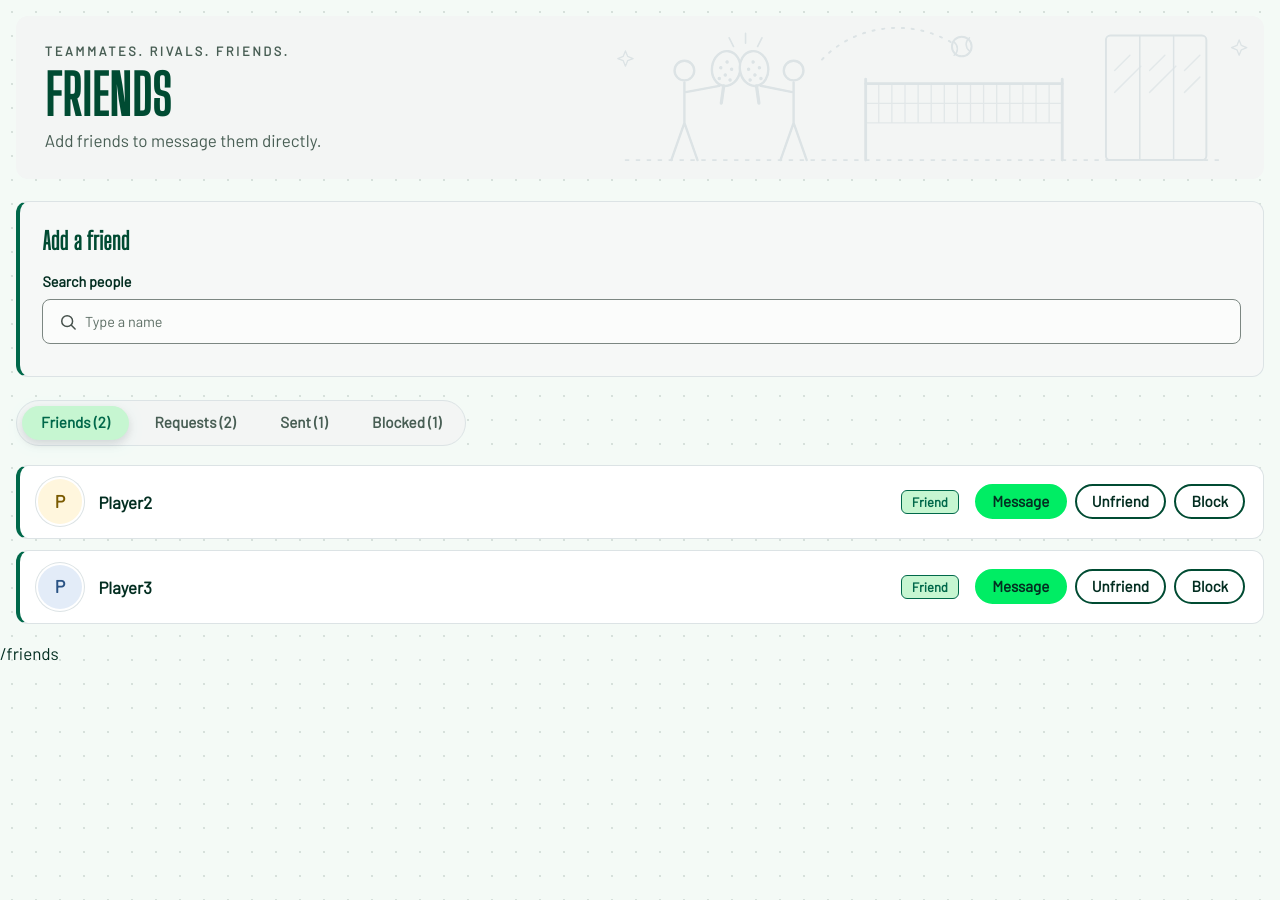
Friends page actions › asks before unfriending and unfriends only after confirmation
expect the link "Player2" is shown: met, box x1=98 y1=492 x2=152 y2=512
Click the button "Unfriend" in the row of "Player2": x=1120, y=502 x1=1074 y1=484 x2=1166 y2=519
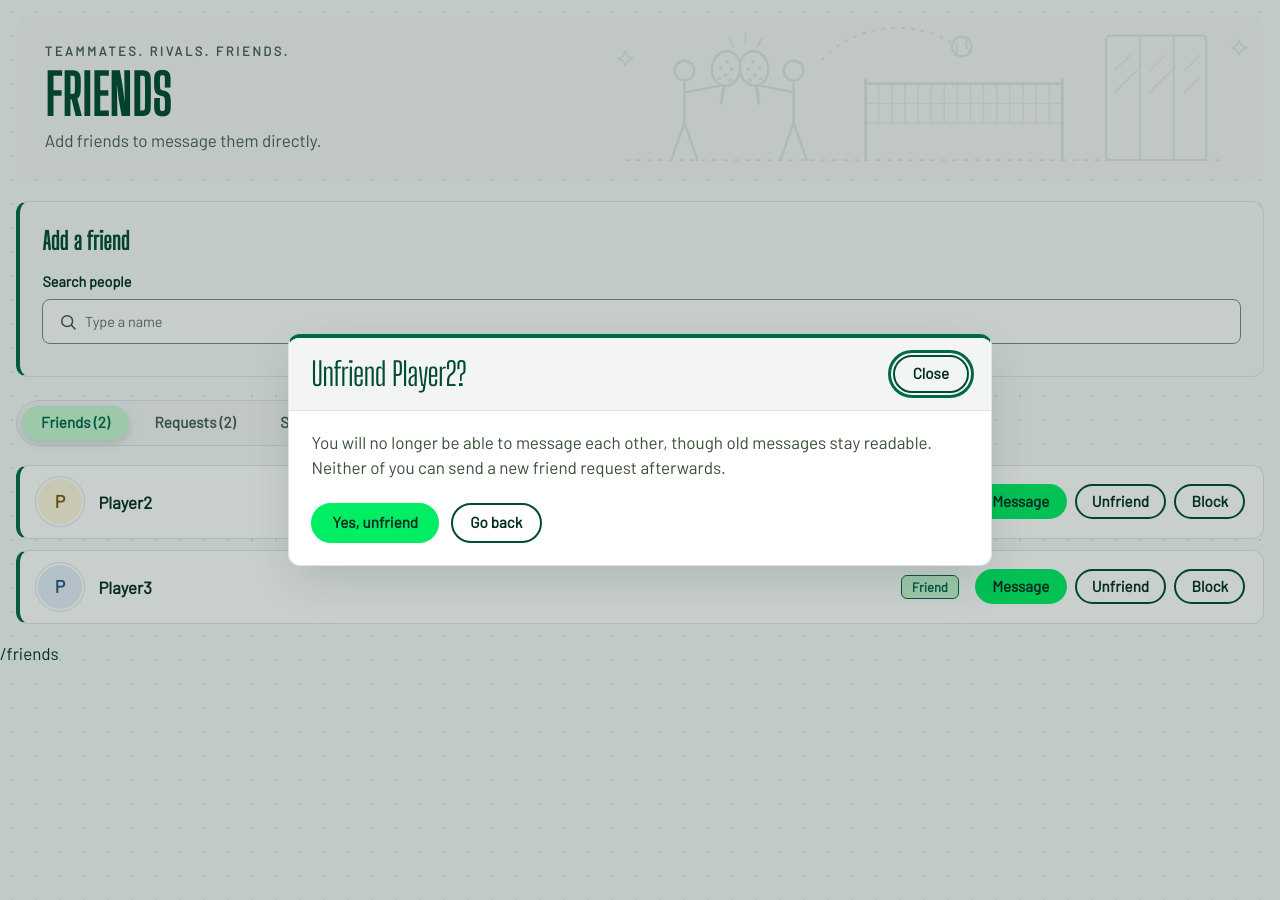
expect the dialog "Unfriend Player2?" shows "Neither of you can send a new friend request afterwards.": met, box x1=311 y1=432 x2=932 y2=478
Click the button "Yes, unfriend": x=375, y=523 x1=311 y1=503 x2=439 y2=543
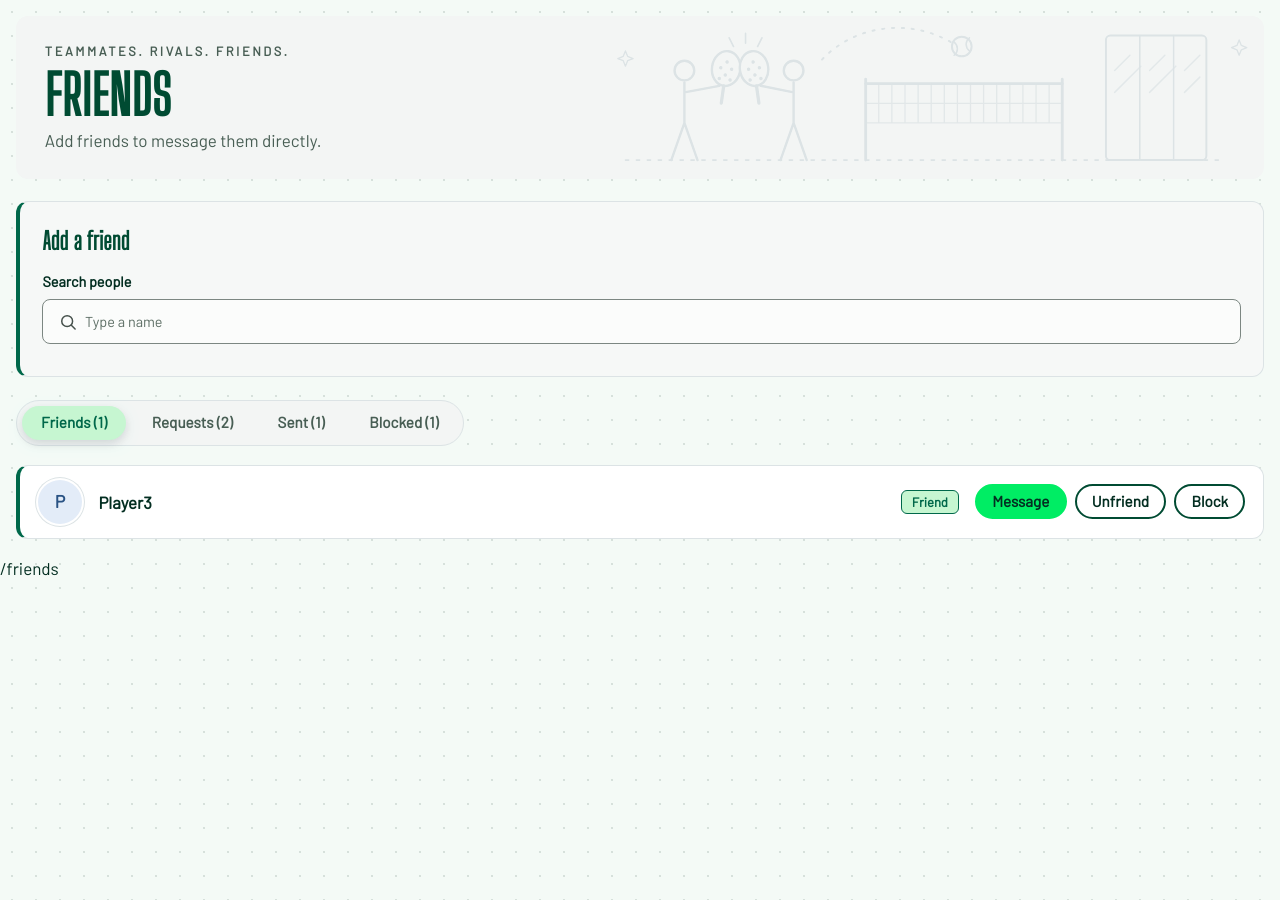
expect the link "Friends (1)" is shown: met, box x1=22 y1=406 x2=126 y2=440
expect the dialog is gone: met
expect the link "Player2" is gone: met
